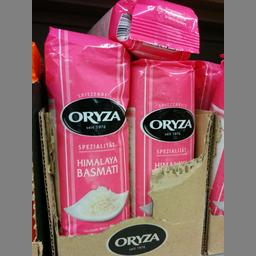rice: (44, 25, 130, 233), (126, 56, 196, 215), (84, 0, 198, 58)
